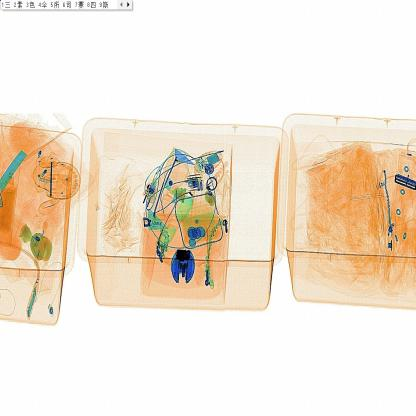scissors: (172, 242, 197, 272)
